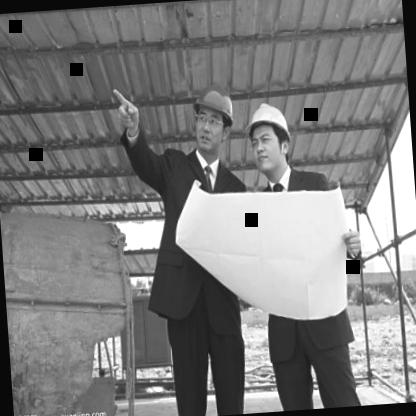helmet: (240, 90, 300, 188), (184, 70, 246, 161)
